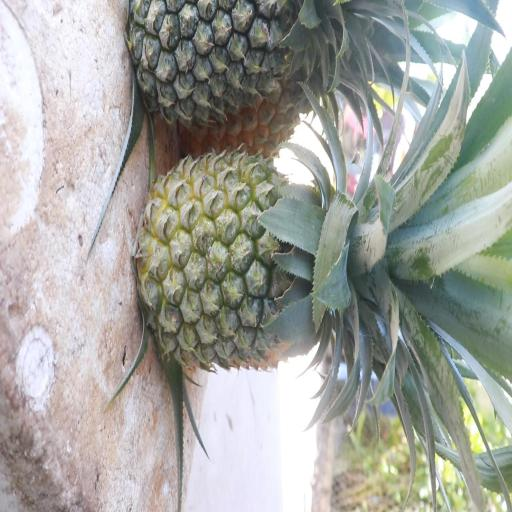------------------------------: (136, 151, 450, 378)
